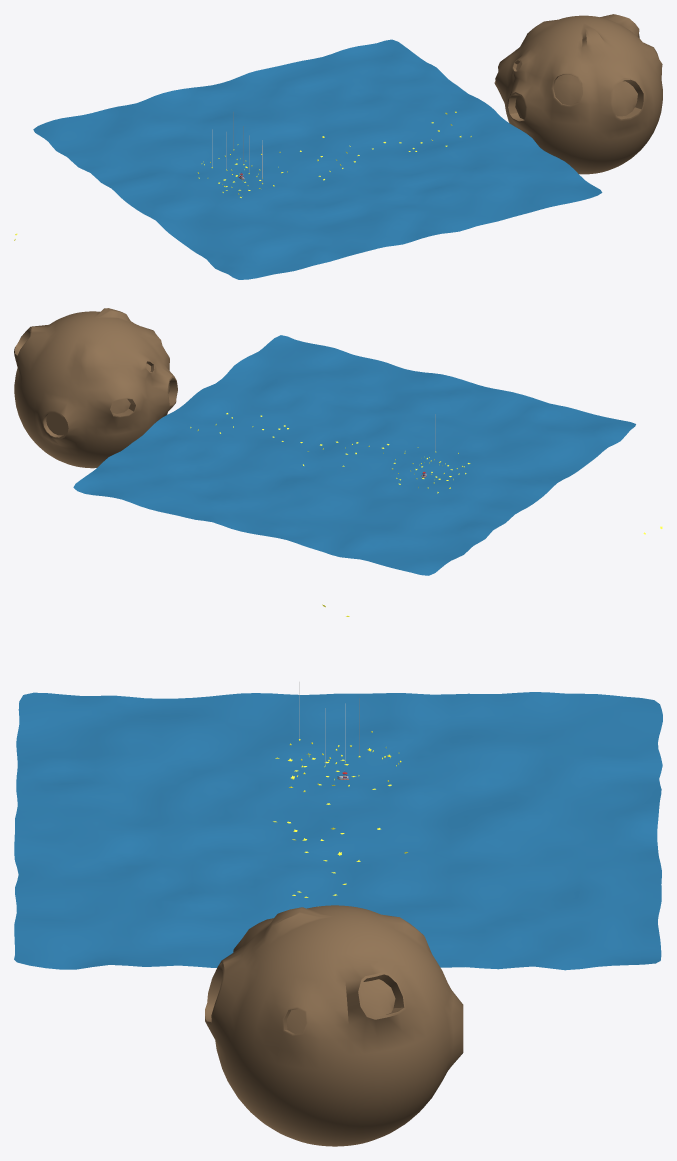
The picture shows the model from 3 angles, top to bottom: view 1: azimuth 30°, elevation 25°; view 2: azimuth 150°, elevation 25°; view 3: azimuth 270°, elevation 25°; orthographic projection. The views are drawn at different scales.
Visible parts, largest first — view 1: sea, moon; view 2: sea, moon; view 3: sea, moon.
Boxes of the visible parts, x1,y1,x2,y2 form: sea: [33, 39, 602, 279]; moon: [494, 14, 662, 174]; sea: [73, 335, 635, 575]; moon: [14, 308, 177, 468]; sea: [14, 692, 662, 970]; moon: [205, 905, 463, 1146].
Bounding box in the file's own units: 139818 × 30423 × 80589.
